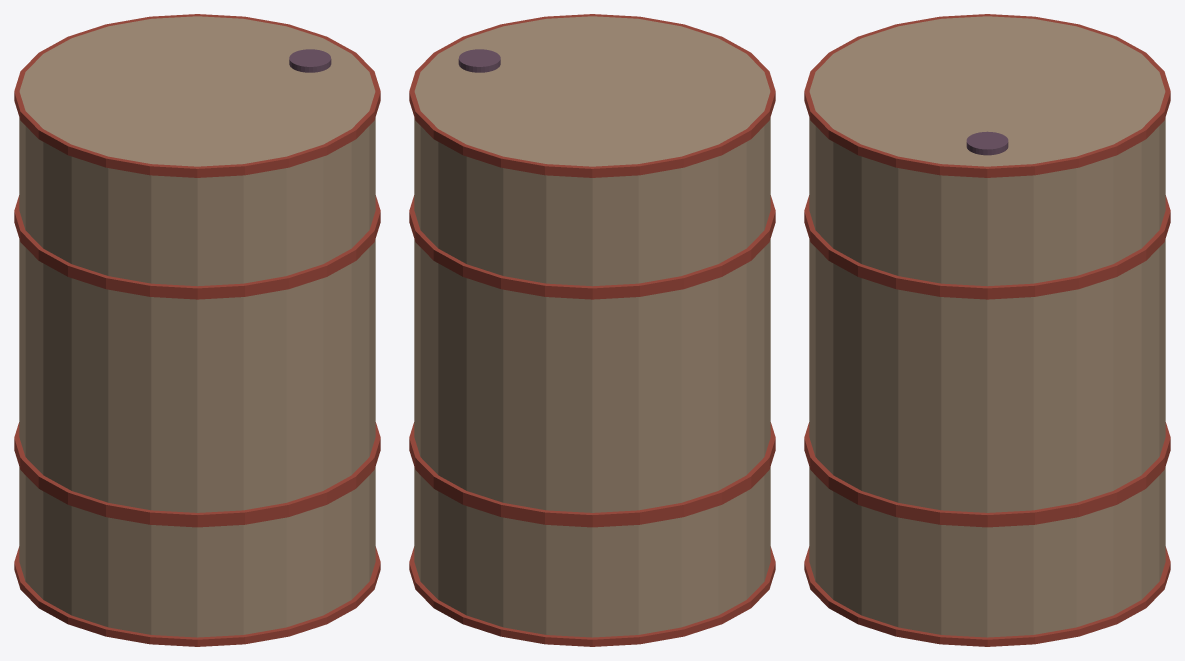
File: Drum.fbx
3 views of the same model, side by side, from view 1: azimuth 30°, elevation 25°; view 2: azimuth 150°, elevation 25°; view 3: azimuth 270°, elevation 25° (orthographic).
Parts seen in each view (by area): view 1: Drum; view 2: Drum; view 3: Drum.
Boxes of the visible parts, box(x1,y1,x2,y2) form: Drum: box(14, 14, 380, 646); Drum: box(409, 14, 775, 646); Drum: box(804, 14, 1170, 646).
Size of the model in its own units: 139 by 202 by 139.
